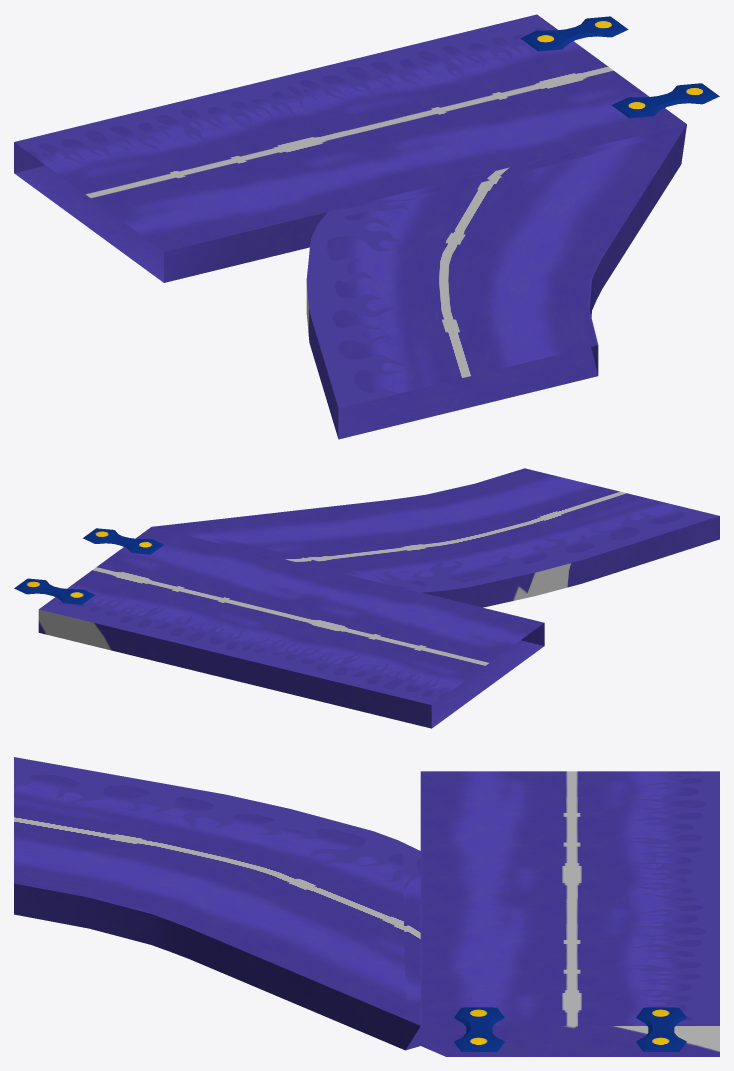
The model's file is PV_Fork.fbx.
3 views of the same model, one above another, from view 1: azimuth 30°, elevation 25°; view 2: azimuth 150°, elevation 25°; view 3: azimuth 270°, elevation 25° (orthographic). The views are drawn at different scales.
Parts seen in each view (by area): view 1: FORK, polySurface15; view 2: FORK, polySurface15; view 3: FORK, polySurface15.
Part boxes in pixels (<box>): FORK: <box>14,14,686,439</box>; polySurface15: <box>520,16,719,118</box>; FORK: <box>38,468,719,728</box>; polySurface15: <box>14,528,163,604</box>; FORK: <box>14,757,719,1056</box>; polySurface15: <box>454,1007,686,1051</box>.
Size of the model in its own units: 5547 by 294 by 5615.
